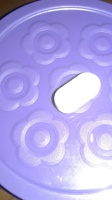Aferin: (51, 72, 102, 114)
